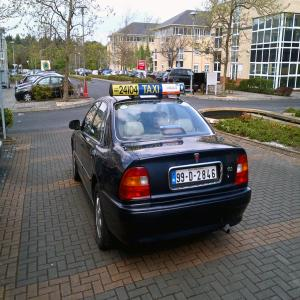Vehicle-registration-plate: (172, 169, 220, 185)
